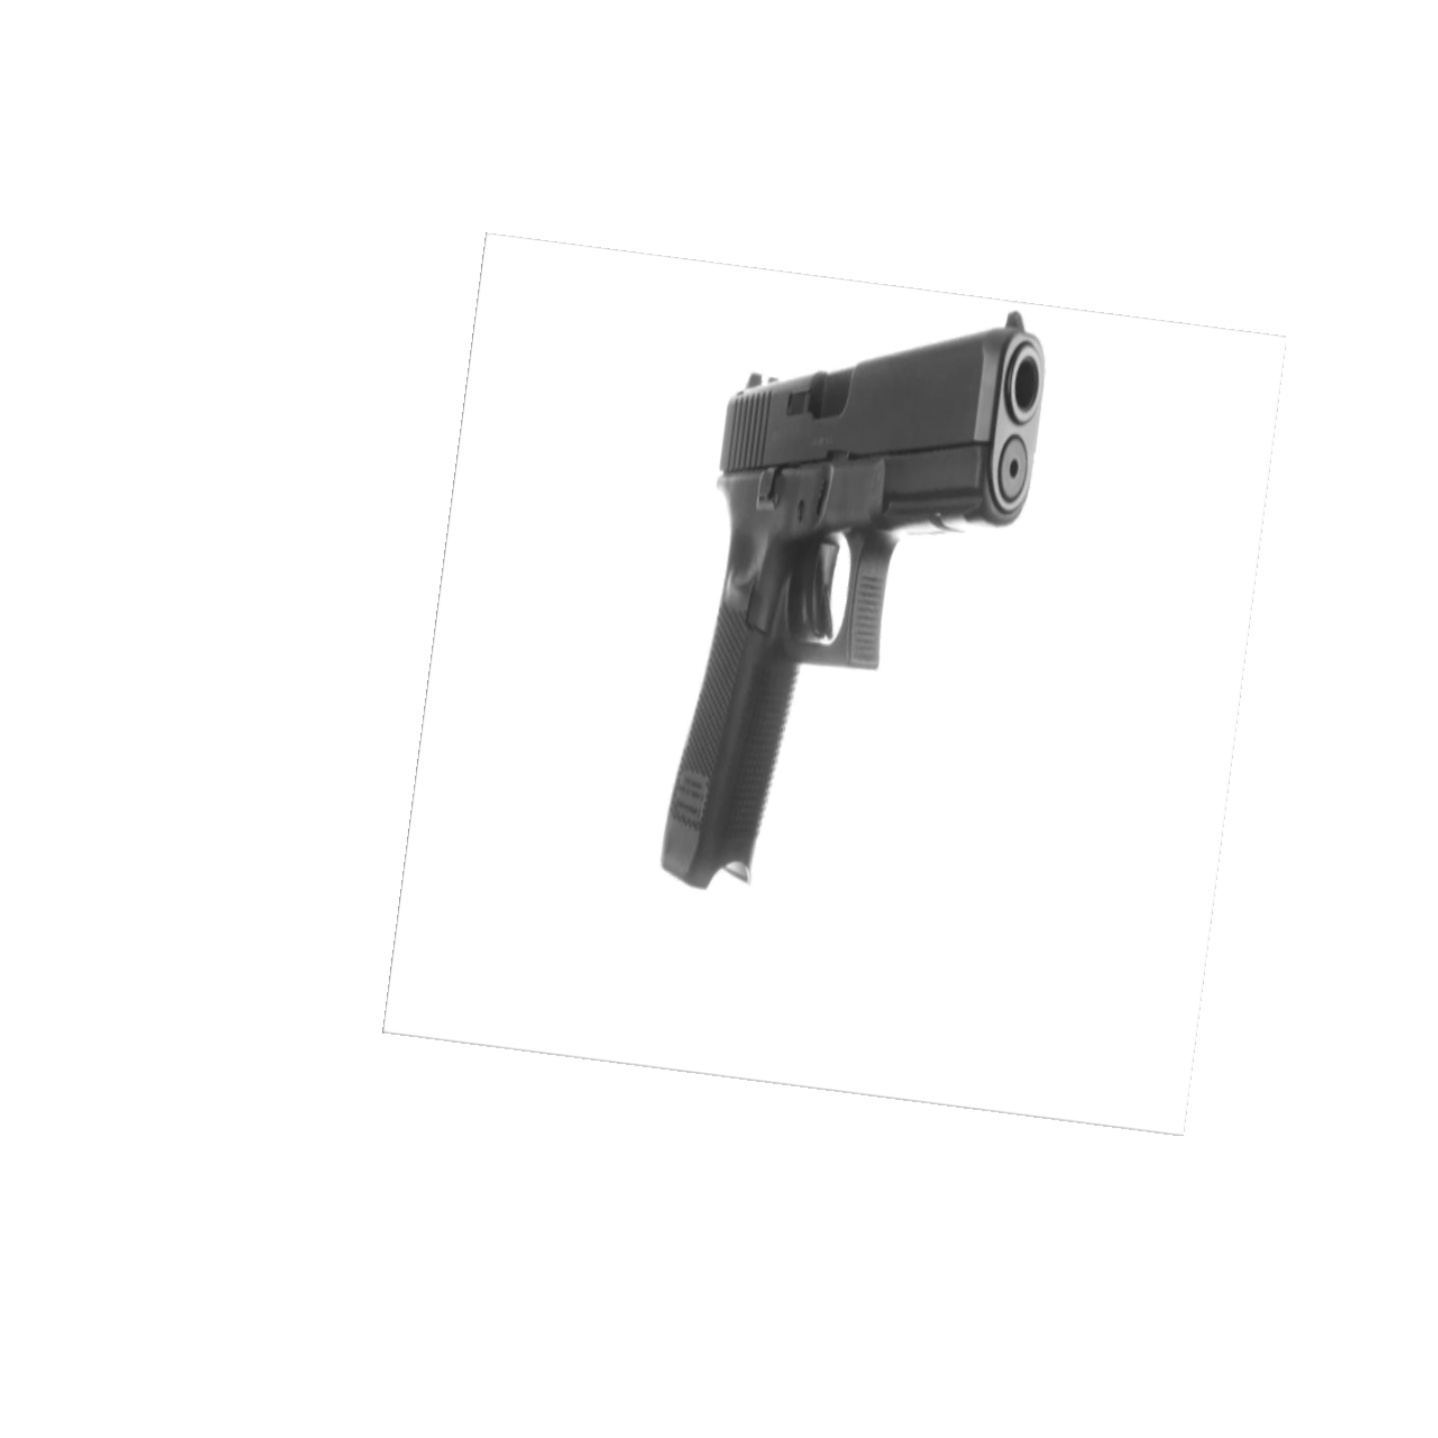gunw: (657, 309, 1055, 892)
